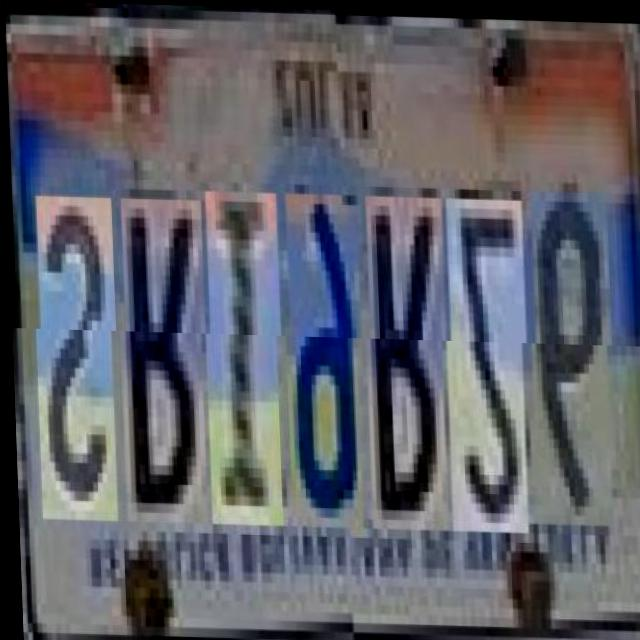2: (444, 186, 530, 521)
6: (528, 179, 615, 513)
9: (285, 192, 365, 527)
i: (204, 190, 284, 525)
r: (119, 198, 209, 523), (364, 184, 450, 519)
s: (34, 196, 120, 521)
